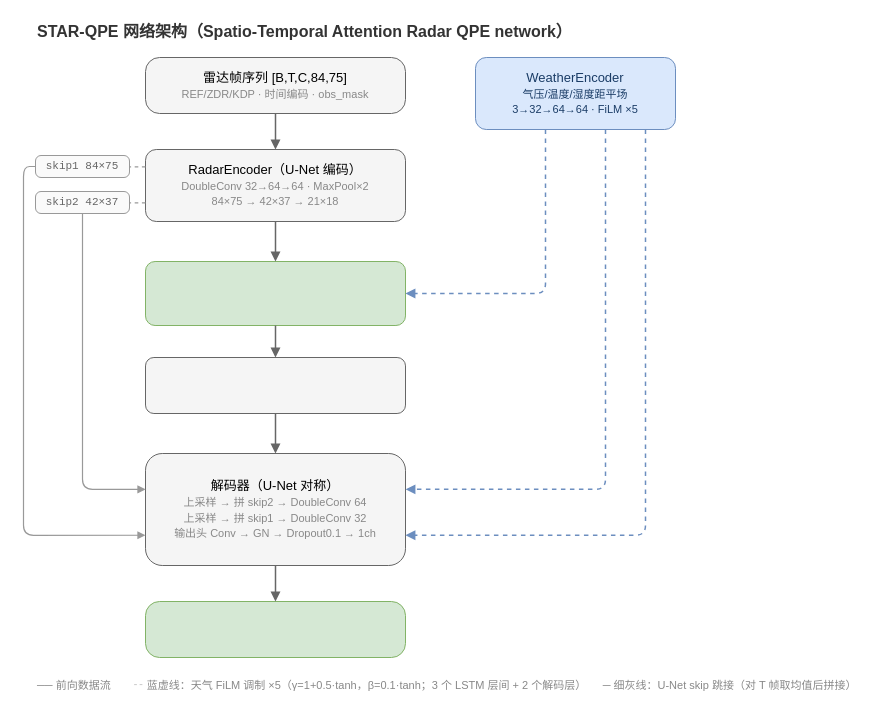
Some shapes in this 875 by 722 pixel diagram are drawn without their labels. The shapes that lost their labels are listed below. From the top down, each one's centre as x and y in pixels, then its label:
the point at 275,293: ConvLSTM × 3（时空核心） h=32/64/64 @ 21×18 · 层间 FiLM
the point at 275,385: 时空注意力 + CBAM Conv3d · softmax(T) → 通道/空间
the point at 275,629: 1h 面降水场 [B,84,75] (mm) expm1 反标准化 · 盲区清零 · EMA 推理
